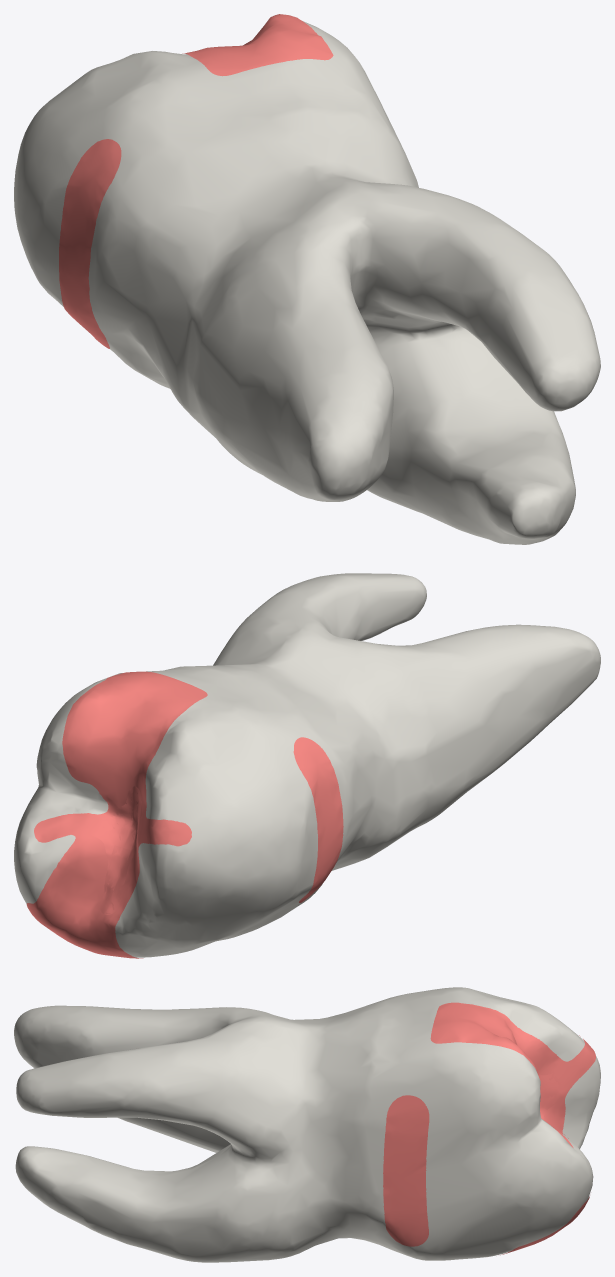
File: tooth_27_FMA55700.glb
The picture shows the model from 3 angles, top to bottom: view 1: azimuth 30°, elevation 25°; view 2: azimuth 150°, elevation 25°; view 3: azimuth 270°, elevation 25°; orthographic projection. The views are drawn at different scales.
Visible parts, largest first — view 1: tooth_27, class5_lingual, class2_distal; view 2: tooth_27, class2_distal, class2_mesial, class1, class5_lingual, class2_mesial_distal; view 3: tooth_27, class5_facial, class2_distal, class1, class2_mesial, class2_mesial_distal.
Boxes of the visible parts, <box> form: tooth_27: <box>14,21,600,544</box>; class5_lingual: <box>59,139,121,348</box>; class2_distal: <box>182,14,333,76</box>; tooth_27: <box>14,573,600,957</box>; class2_distal: <box>62,671,207,862</box>; class2_mesial: <box>26,792,143,958</box>; class1: <box>34,786,191,914</box>; class5_lingual: <box>293,737,343,902</box>; class2_mesial_distal: <box>89,763,145,878</box>; tooth_27: <box>14,987,600,1262</box>; class5_facial: <box>383,1095,429,1246</box>; class2_distal: <box>430,1002,583,1118</box>; class1: <box>537,1035,595,1147</box>; class2_mesial: <box>500,1080,589,1255</box>; class2_mesial_distal: <box>530,1053,571,1128</box>.
Size of the model in its own units: 11.27 by 9.38 by 21.43.
